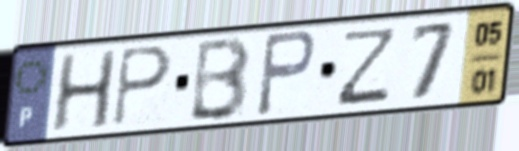7: (408, 18, 459, 102)
B: (185, 34, 254, 124)
H: (48, 47, 119, 135)
P: (253, 27, 319, 119), (110, 43, 175, 130)
Z: (332, 24, 402, 109)
